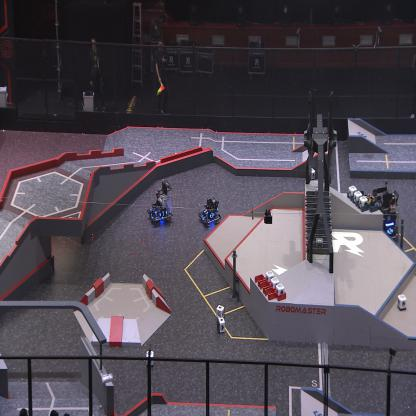car: (367, 184, 399, 240), (146, 179, 172, 224), (197, 195, 221, 226)
